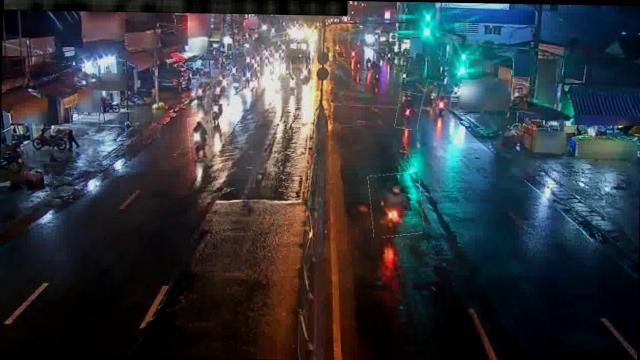Bike: (368, 172, 423, 237), (29, 126, 68, 155), (188, 116, 212, 160), (396, 92, 422, 129), (126, 90, 156, 112), (422, 80, 441, 110), (212, 94, 229, 120), (436, 95, 451, 123), (194, 80, 208, 109), (212, 78, 228, 103), (232, 74, 242, 91)
Car: (274, 70, 298, 92)
